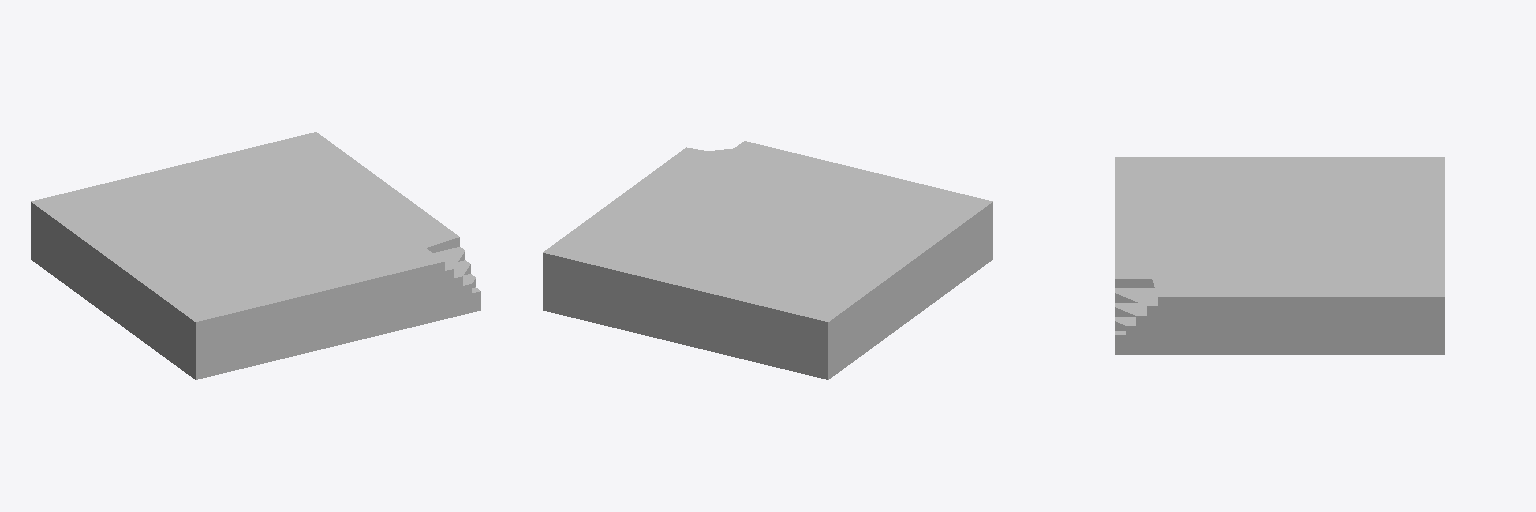
The model's file is Floor_Water_L_Cleaned.obj.
3 renders of one model, left to right at view 1: azimuth 30°, elevation 25°; view 2: azimuth 150°, elevation 25°; view 3: azimuth 270°, elevation 25°, orthographic.
Visible parts, largest first — view 1: Floor_Water_L_Cleaned_Floor_Water_L.002; view 2: Floor_Water_L_Cleaned_Floor_Water_L.002; view 3: Floor_Water_L_Cleaned_Floor_Water_L.002.
Boxes of the visible parts, x1,y1,x2,y2 form: Floor_Water_L_Cleaned_Floor_Water_L.002: [31, 132, 480, 379]; Floor_Water_L_Cleaned_Floor_Water_L.002: [543, 141, 992, 379]; Floor_Water_L_Cleaned_Floor_Water_L.002: [1115, 157, 1444, 354].
Size of the model in its own units: 3.1 by 0.6 by 3.1.